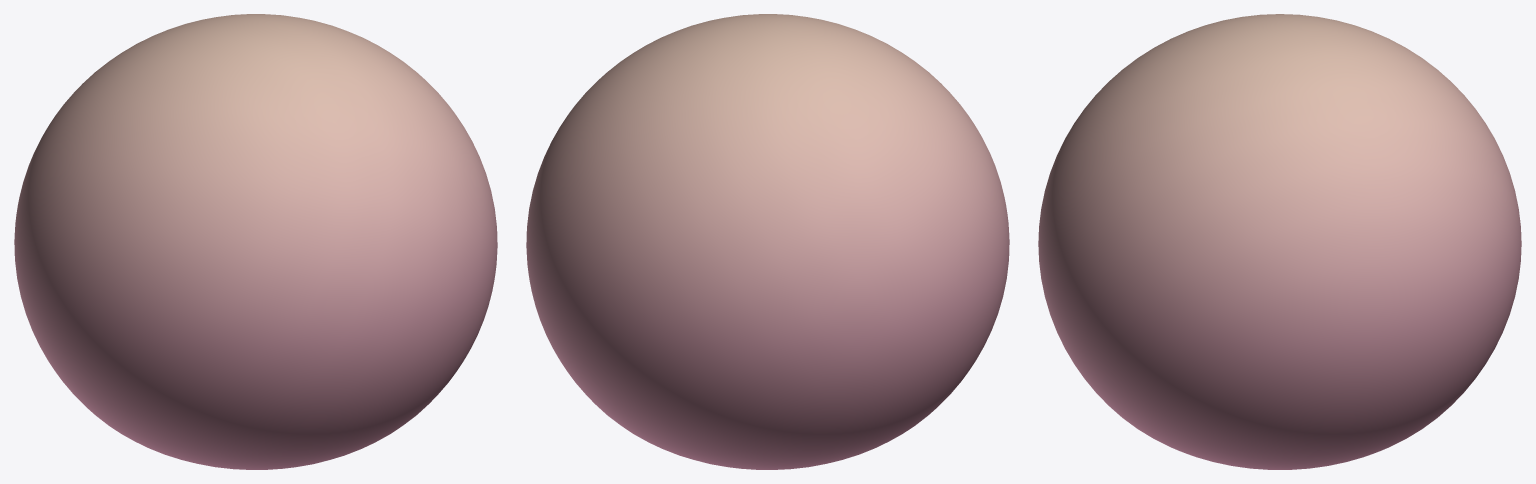
Rendered from squishy-orb.glb.
The picture shows the model from 3 angles, left to right: view 1: azimuth 30°, elevation 25°; view 2: azimuth 150°, elevation 25°; view 3: azimuth 270°, elevation 25°; orthographic projection.
Visible parts, largest first — view 1: Orb_Surface; view 2: Orb_Surface; view 3: Orb_Surface.
Part boxes in pixels (<box>): Orb_Surface: <box>14,14,497,469</box>; Orb_Surface: <box>526,14,1009,469</box>; Orb_Surface: <box>1038,14,1521,469</box>.
Size of the model in its own units: 2 by 1.84 by 2.
